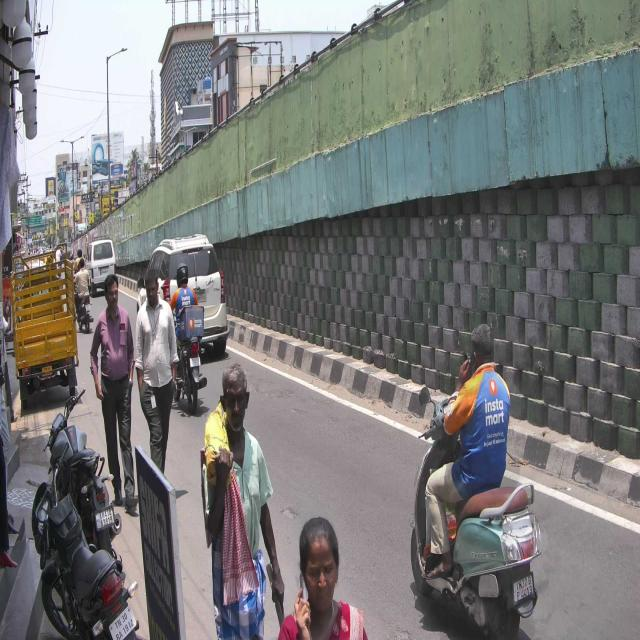single_rider: (409, 322, 541, 640)
